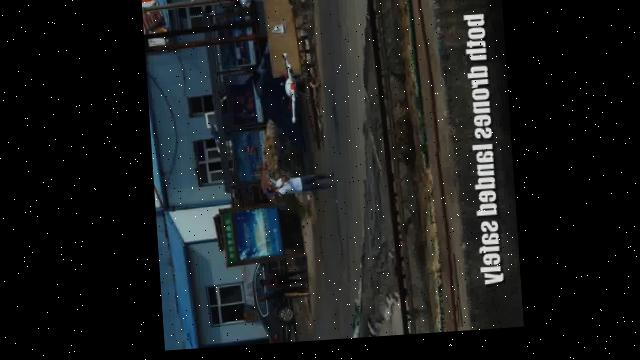drone: (277, 53, 307, 131)
